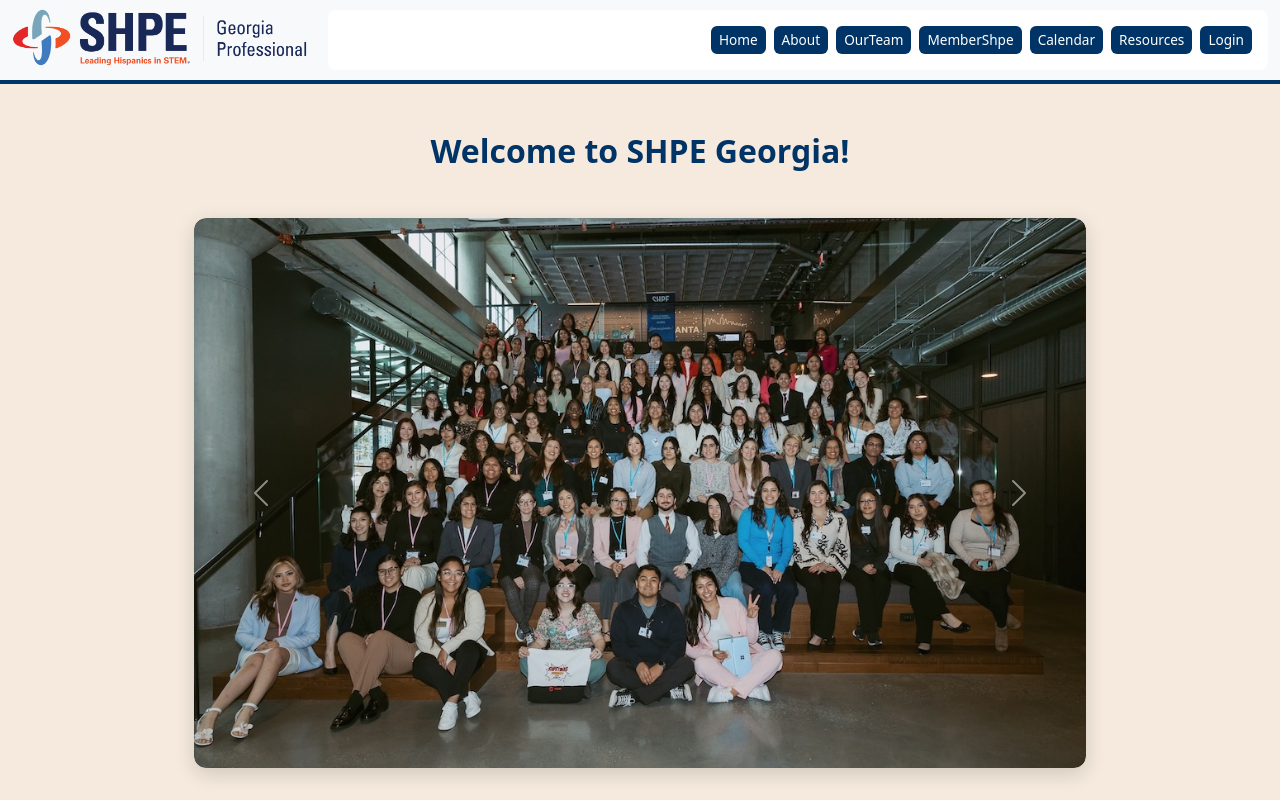
Test: Calendar Navigation › loads the homepage and opens the Calendar page
Click the link "Calendar". click: (1067, 40)
box: [1030,26,1103,54]
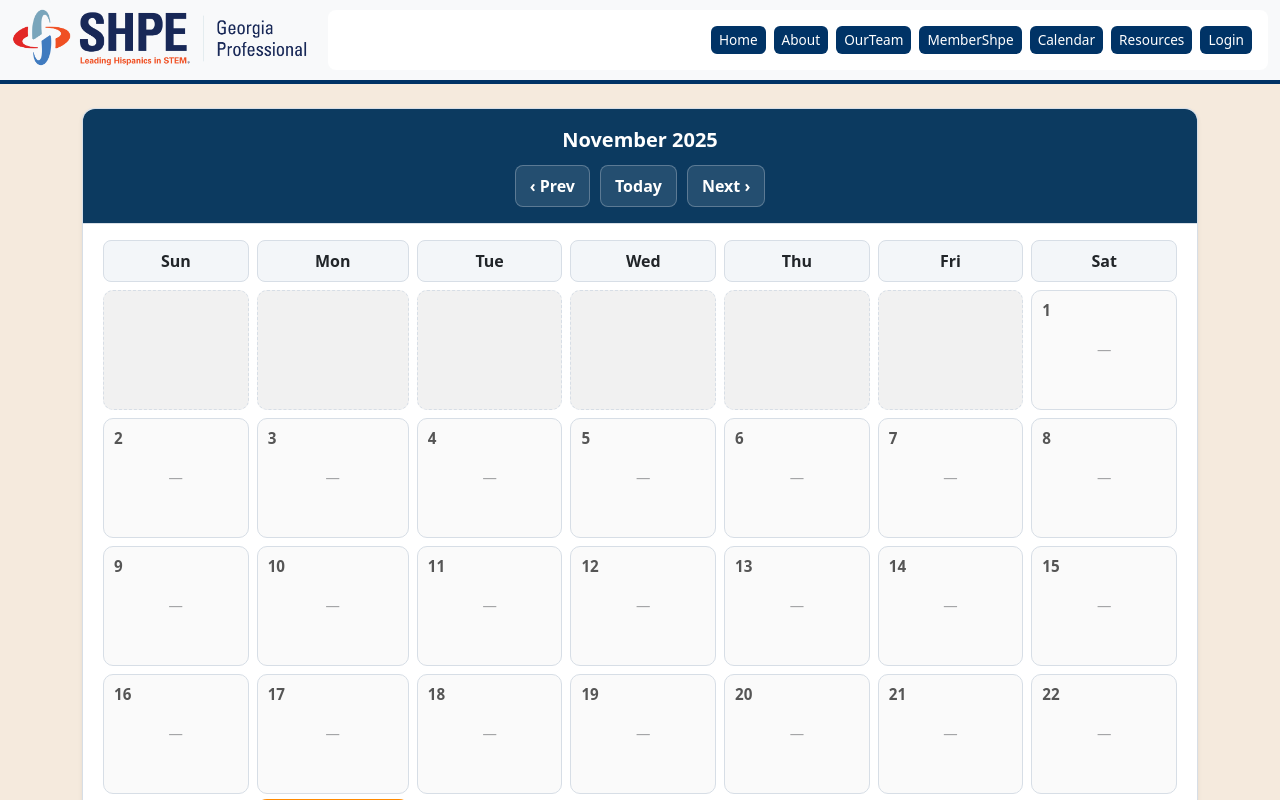
Result: the button "Today" is shown at [600,165,677,207]
